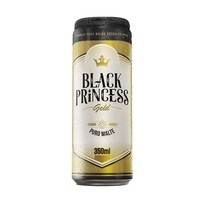blackprincess: (71, 18, 134, 187)
